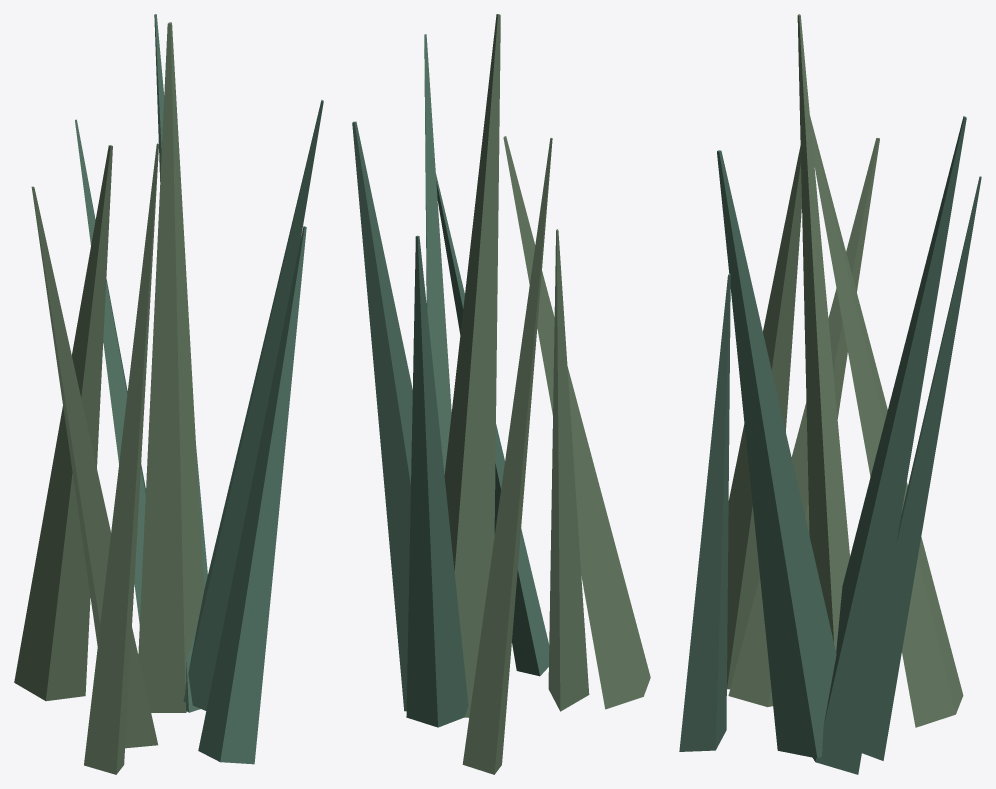
The model's file is grass-tuft-c.glb.
3 views of the same model, side by side, from view 1: azimuth 30°, elevation 25°; view 2: azimuth 150°, elevation 25°; view 3: azimuth 270°, elevation 25° (orthographic). The views are drawn at different scales.
Parts seen in each view (by area): view 1: grass-tuft-c; view 2: grass-tuft-c; view 3: grass-tuft-c.
Boxes of the visible parts, left/top/right/bottom form: grass-tuft-c: left=14, top=14, right=323, bottom=774; grass-tuft-c: left=352, top=14, right=650, bottom=774; grass-tuft-c: left=679, top=14, right=981, bottom=774.
Size of the model in its own units: 0.106 by 0.3089 by 0.1164.
